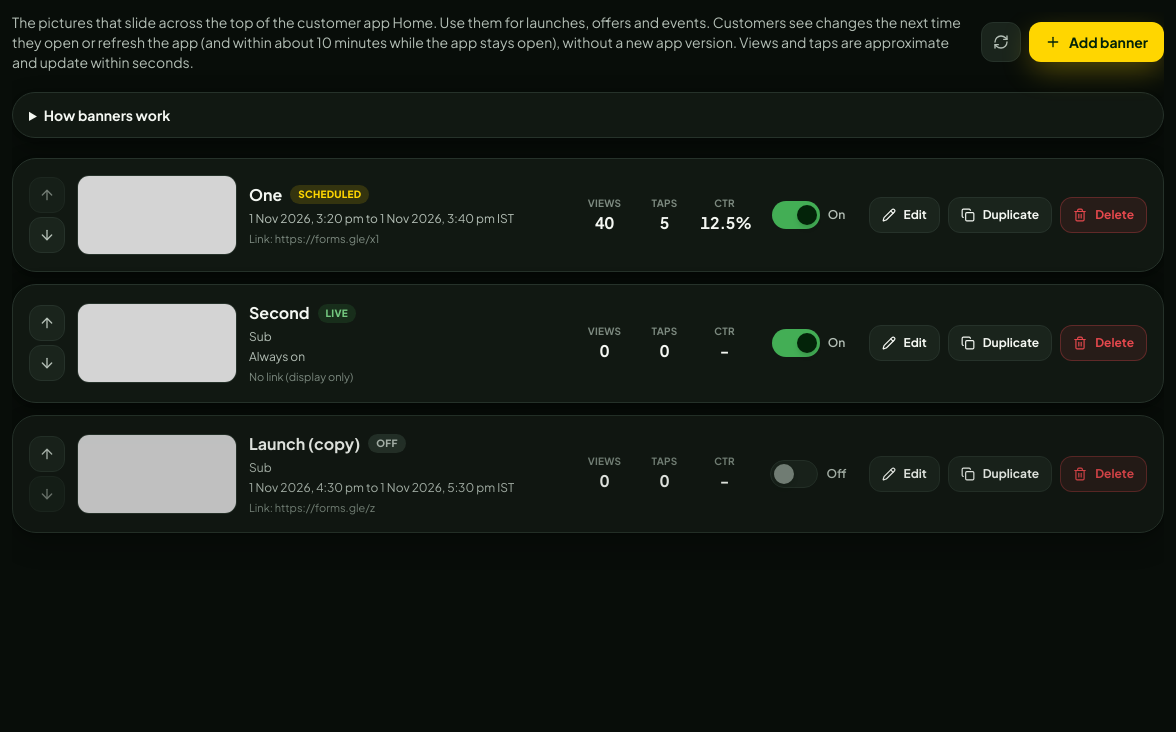
BannersPanel reorder › Save order sends all ids in the new order, shows Saving…, and takes the server's list
This screenshot has width=1176, height=732.
Click the button named "Move One down".
click(47, 235)  # box [29,217,65,253]
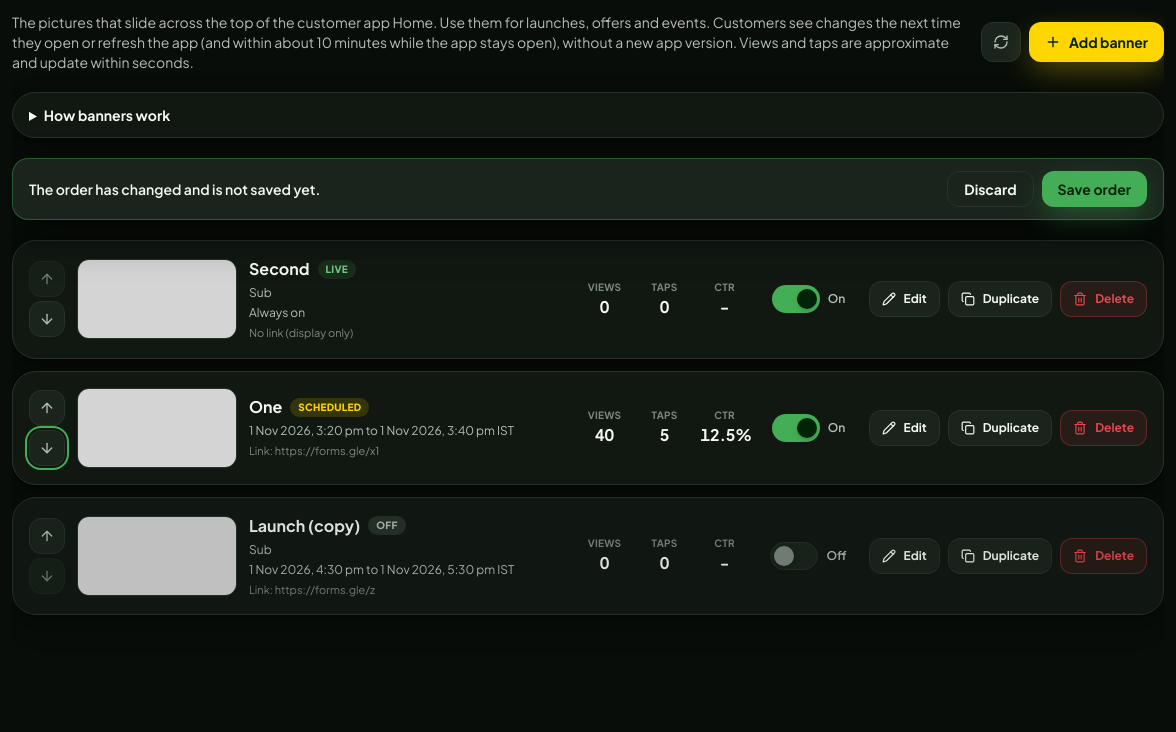
Click the button "Save order".
click(1094, 189)  # box [1042,171,1147,207]
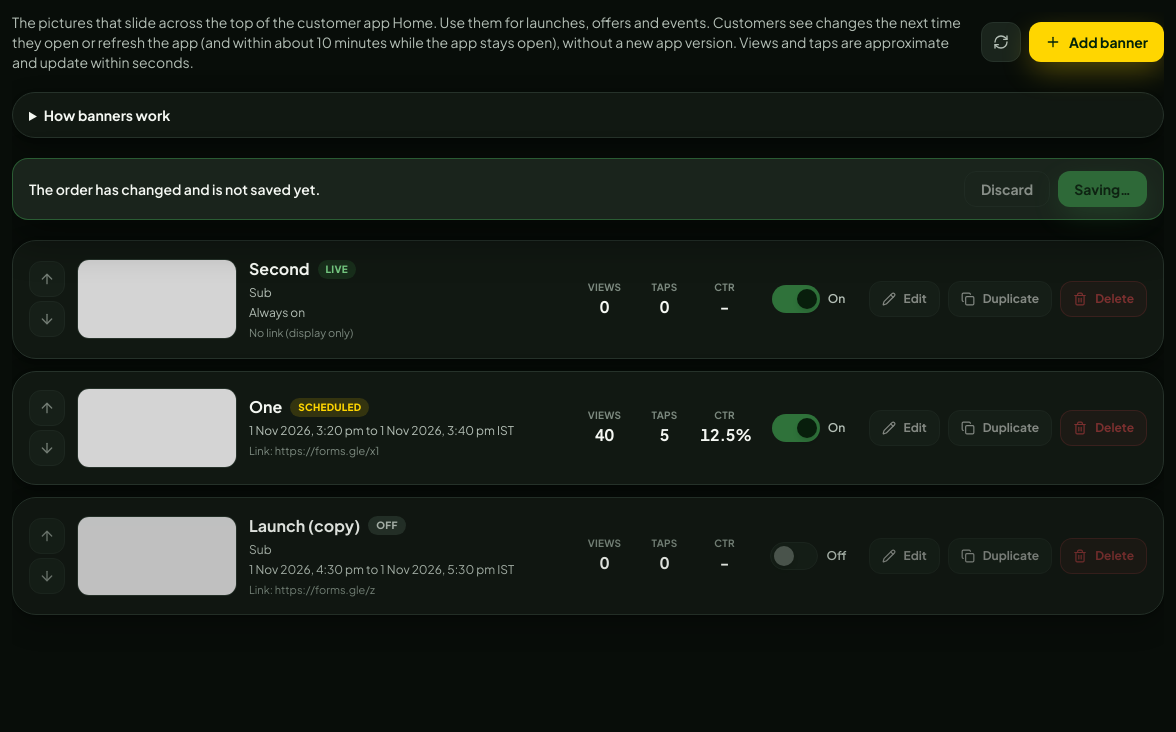
Now the button named "Move One up" is disabled, box [29,390,65,426]
Click the button "Saving…".
click(1103, 189)  # box [1058,171,1147,207]
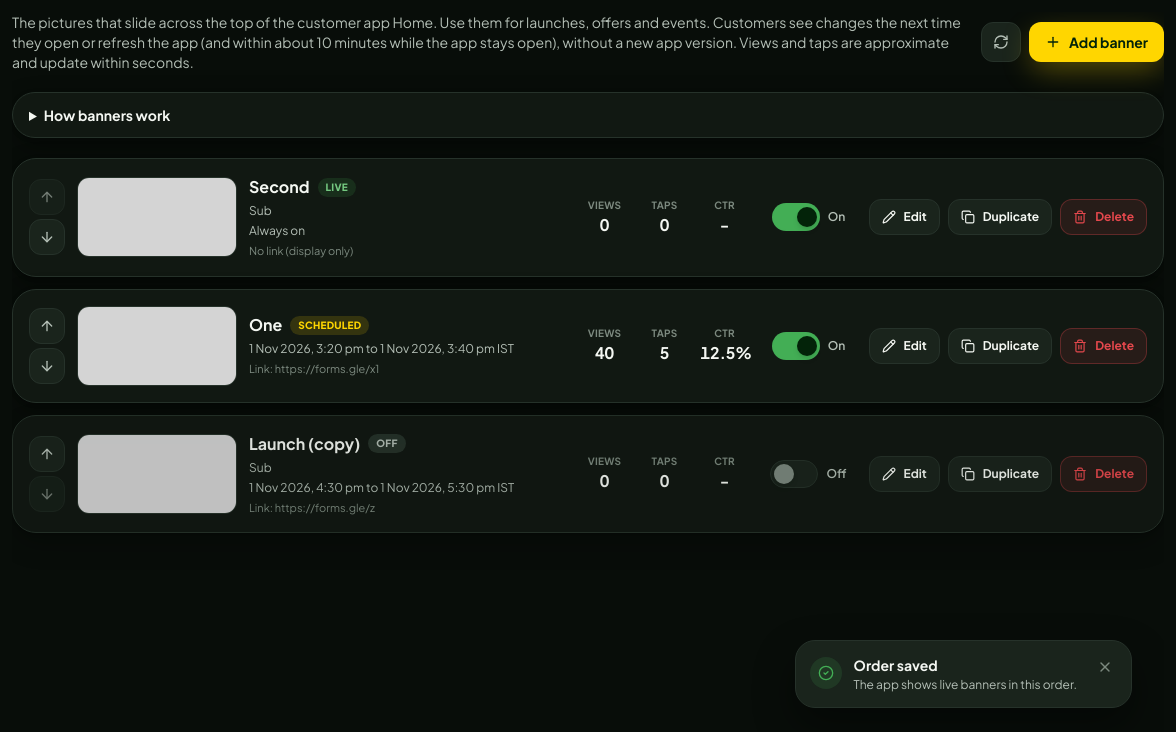
Now the text "Order saved" is shown, box [854,656,938,674]
